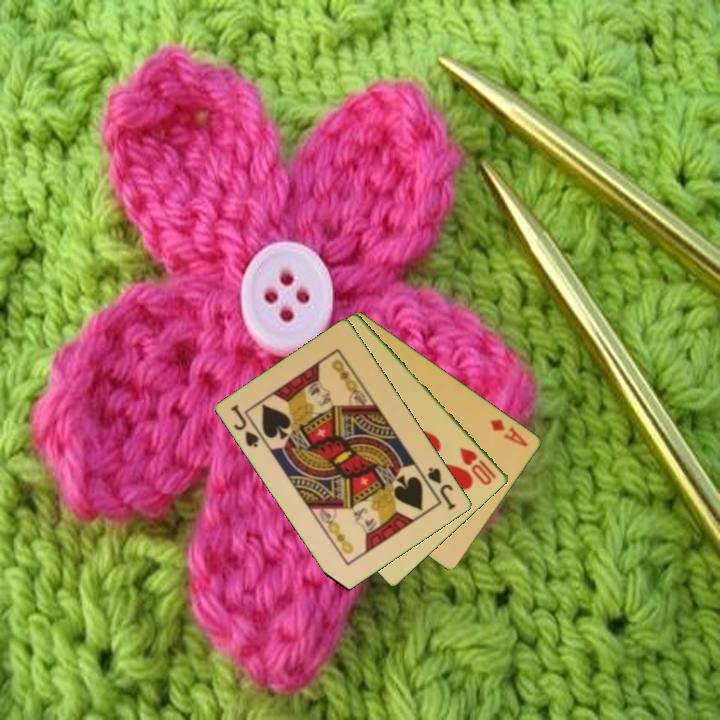10h: (456, 444, 500, 488)
Ad: (487, 415, 531, 450)
Js: (227, 401, 268, 451), (424, 463, 459, 513)
